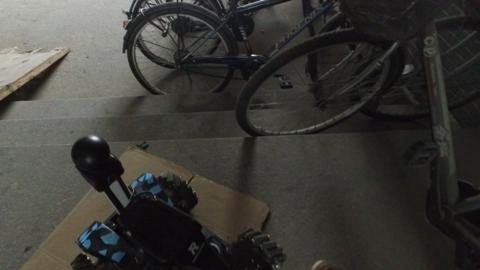chariot: (56, 130, 287, 270)
